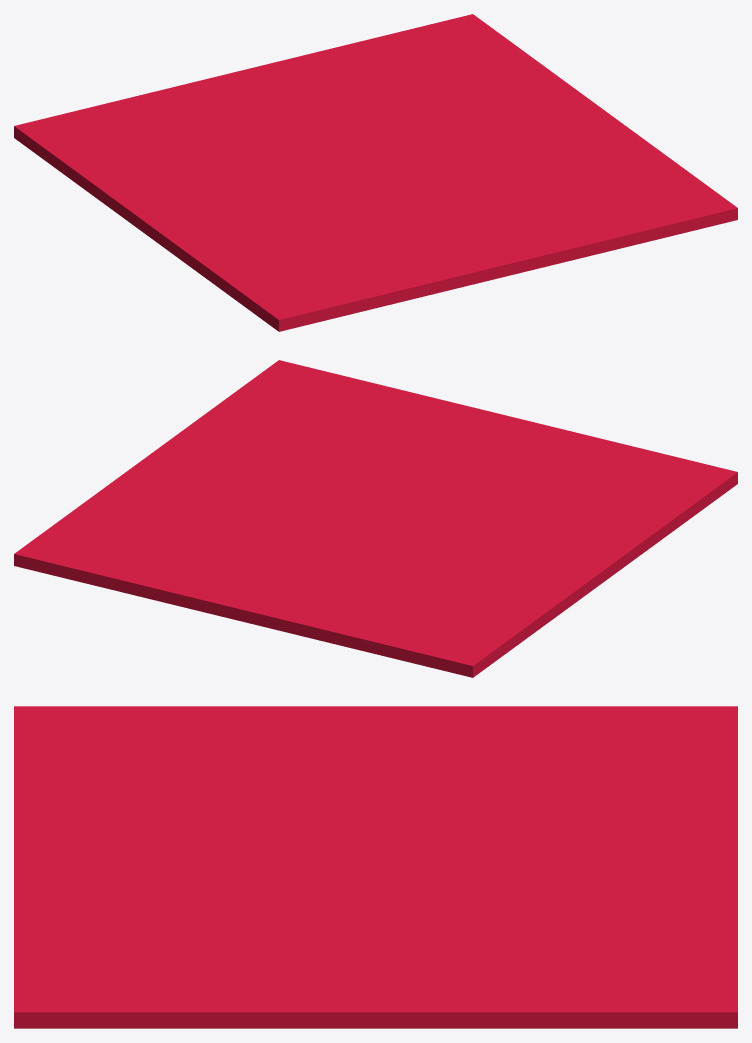
File: Scifi2_Ceiling_Light2.fbx
3 renders of one model, top to bottom at view 1: azimuth 30°, elevation 25°; view 2: azimuth 150°, elevation 25°; view 3: azimuth 270°, elevation 25°, orthographic. The views are drawn at different scales.
Parts seen in each view (by area): view 1: Ceiling_Light; view 2: Ceiling_Light; view 3: Ceiling_Light.
Boxes of the visible parts, x1=… form: Ceiling_Light: x1=14, y1=14, x2=737, y2=331; Ceiling_Light: x1=14, y1=360, x2=737, y2=677; Ceiling_Light: x1=14, y1=706, x2=737, y2=1028.
Size of the model in its own units: 800 by 30 by 800.
